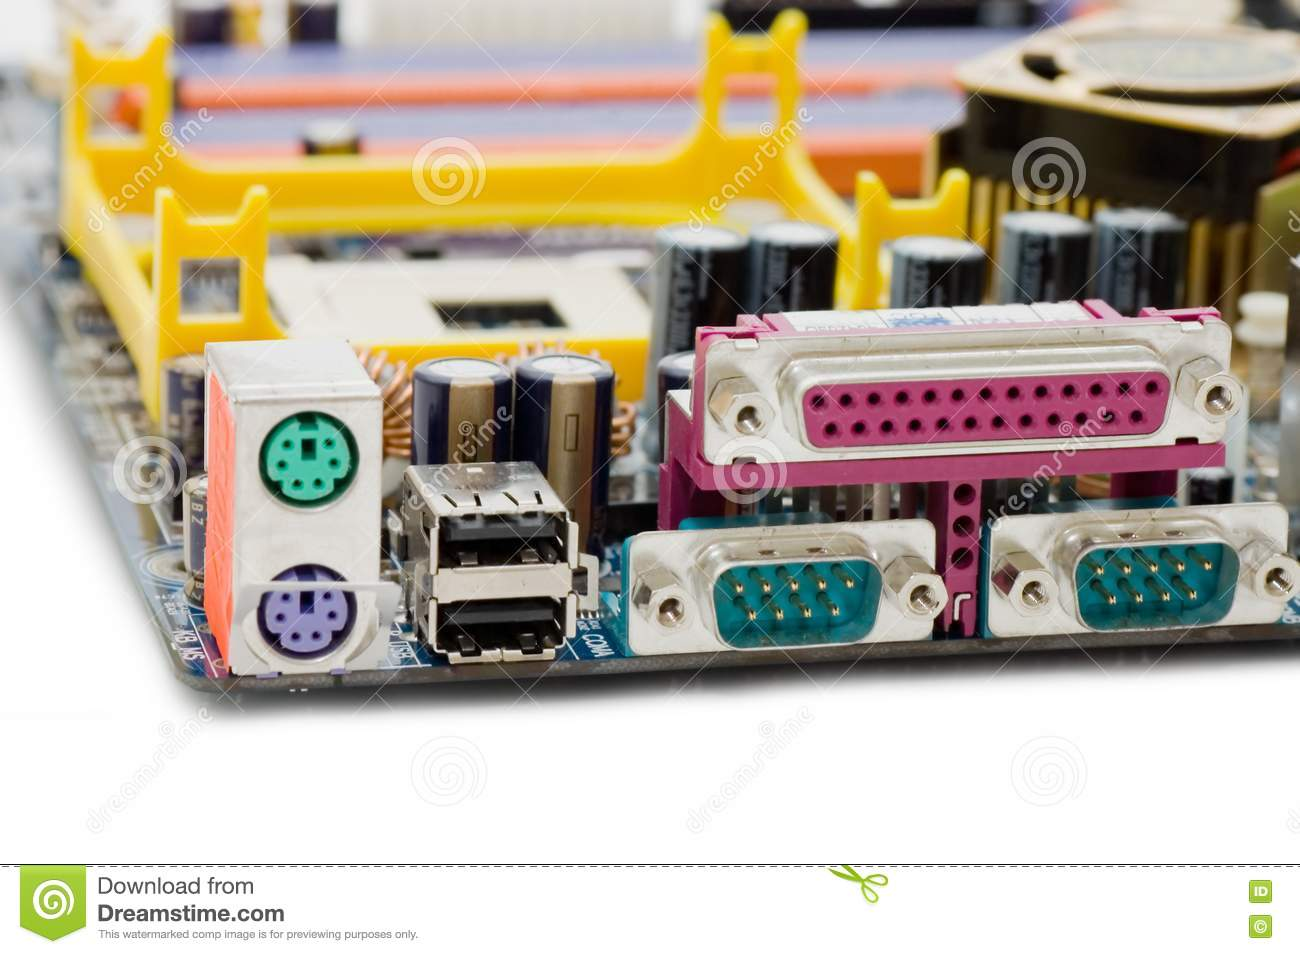USB: (439, 506, 576, 578)
